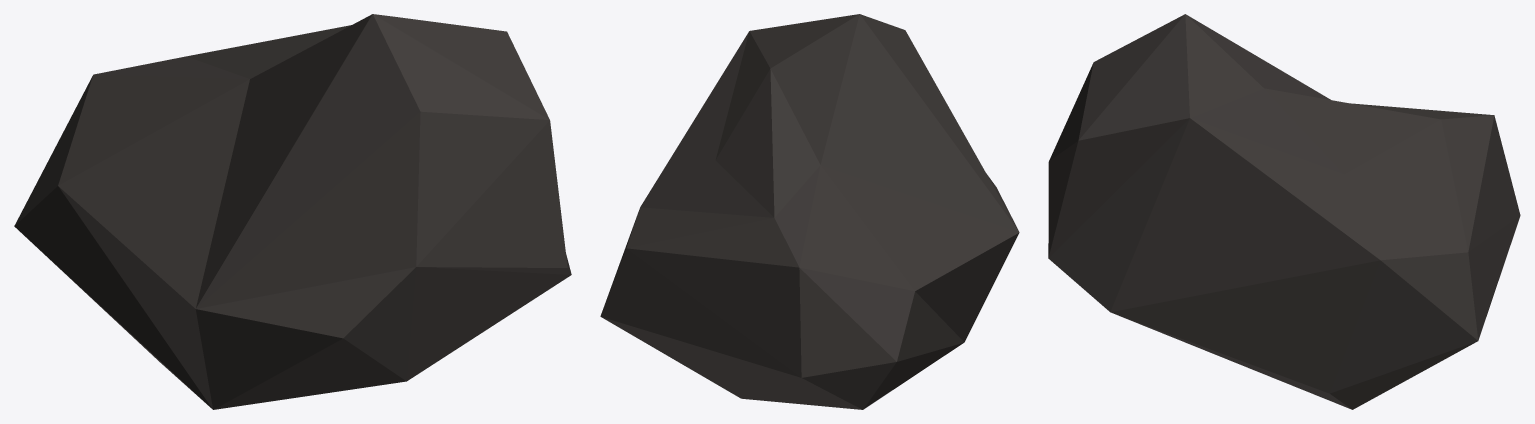
Rendered from Rock_6_LOD_1.fbx.
3 renders of one model, left to right at view 1: azimuth 30°, elevation 25°; view 2: azimuth 150°, elevation 25°; view 3: azimuth 270°, elevation 25°, orthographic. The views are drawn at different scales.
Parts seen in each view (by area): view 1: Group9358; view 2: Group9358; view 3: Group9358.
Part boxes in pixels (<box>): Group9358: <box>14,14,571,409</box>; Group9358: <box>600,14,1019,409</box>; Group9358: <box>1048,14,1520,409</box>.
Bounding box in the file's own units: 3.48 × 3.88 × 4.45.
